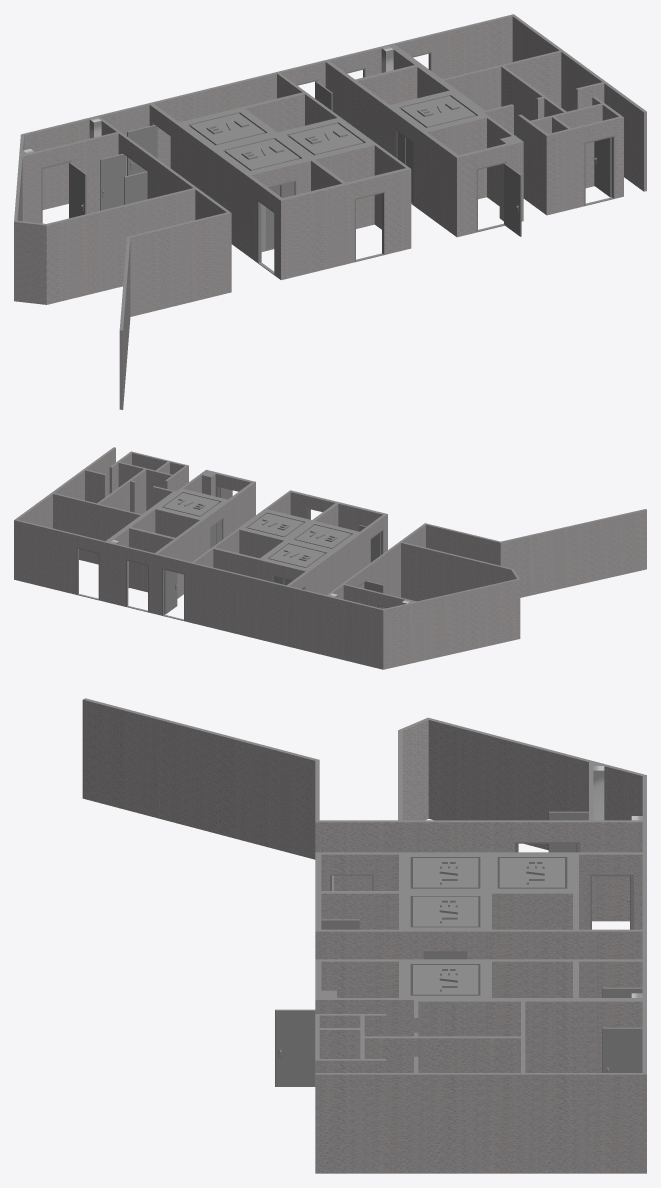
File: server_room4-1.obj
3 views of the same model, one above another, from view 1: azimuth 30°, elevation 25°; view 2: azimuth 150°, elevation 25°; view 3: azimuth 270°, elevation 25° (orthographic). The views are drawn at different scales.
Visible parts, largest first — view 1: Group10, Object002, Group99, Group104, Box004, Box001, Box002, Box003, Group7; view 2: Group10, Object002, Group104, Group99, Box002, Box004, Box003, Box001; view 3: Group10, Object002, Group99, Box003, Box002, Box004, Box001, Group104, Group7.
Part boxes in pixels (<box>): Group10: <box>14,16,646,409</box>; Object002: <box>14,14,646,330</box>; Group99: <box>69,81,611,236</box>; Group104: <box>41,52,614,275</box>; Box004: <box>392,92,483,130</box>; Box001: <box>217,135,307,173</box>; Box002: <box>182,109,273,147</box>; Box003: <box>280,119,371,157</box>; Group7: <box>23,46,393,153</box>; Group10: <box>14,448,646,669</box>; Object002: <box>14,447,646,610</box>; Group104: <box>76,486,388,621</box>; Group99: <box>164,487,385,614</box>; Box002: <box>263,541,331,569</box>; Box004: <box>157,490,225,518</box>; Box003: <box>241,510,309,539</box>; Box001: <box>289,522,357,550</box>; Group10: <box>82,700,646,1173</box>; Object002: <box>83,698,646,1074</box>; Group99: <box>275,811,642,1086</box>; Box003: <box>405,893,485,959</box>; Box002: <box>492,854,572,890</box>; Box004: <box>405,961,485,997</box>; Box001: <box>405,854,485,890</box>; Group104: <box>278,842,633,1072</box>; Group7: <box>593,766,642,997</box>.
Bounding box in the file's own units: 803 × 102 × 571.
